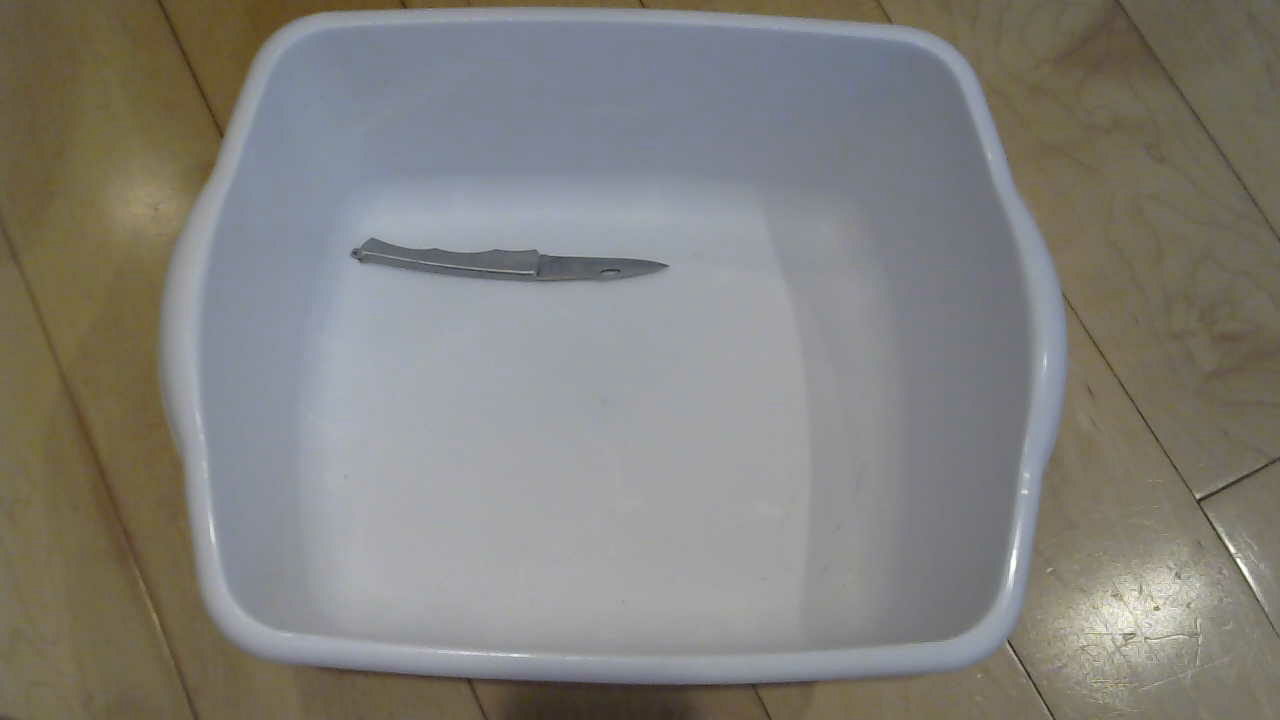knife: (323, 213, 698, 318)
